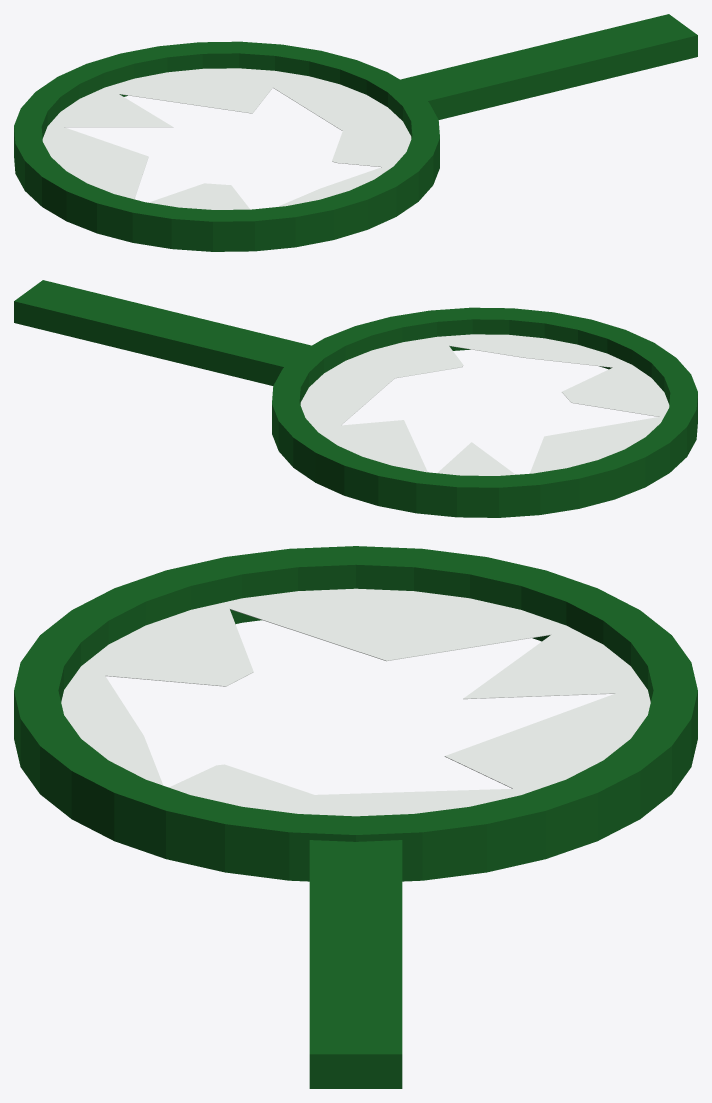
The model's file is poi_broken.fbx.
The picture shows the model from 3 angles, top to bottom: view 1: azimuth 30°, elevation 25°; view 2: azimuth 150°, elevation 25°; view 3: azimuth 270°, elevation 25°; orthographic projection. The views are drawn at different scales.
Visible parts, largest first — view 1: 円柱, 円柱.001, 立方体; view 2: 円柱, 円柱.001, 立方体; view 3: 円柱, 円柱.001, 立方体.
Boxes of the visible parts, box(x1,y1,x2,y2) form: 円柱: box(14, 41, 439, 251); 円柱.001: box(42, 68, 411, 209); 立方体: box(400, 14, 697, 119); 円柱: box(272, 307, 697, 517); 円柱.001: box(300, 334, 669, 475); 立方体: box(14, 280, 311, 385); 円柱: box(14, 546, 697, 881); 円柱.001: box(61, 588, 650, 816); 立方体: box(309, 840, 402, 1088).
Size of the model in its own units: 347 by 15.62 by 200.
